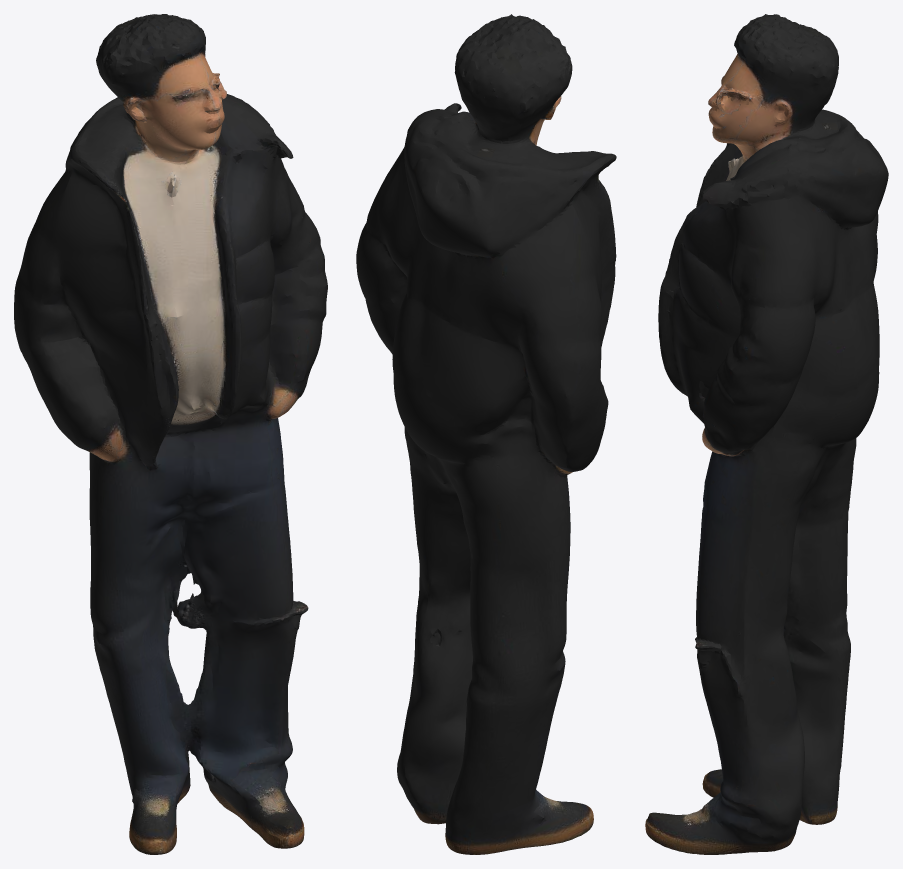
3 renders of one model, left to right at view 1: azimuth 30°, elevation 25°; view 2: azimuth 150°, elevation 25°; view 3: azimuth 270°, elevation 25°, orthographic. The views are drawn at different scales.
Visible parts, largest first — view 1: me; view 2: me; view 3: me.
Part boxes in pixels (bbox=[...]): me: bbox=[14, 14, 327, 854]; me: bbox=[356, 14, 616, 854]; me: bbox=[645, 14, 888, 854].
Bounding box in the file's own units: 0.3412 × 1 × 0.2802.
Materials: 1 (1 with a texture image).
